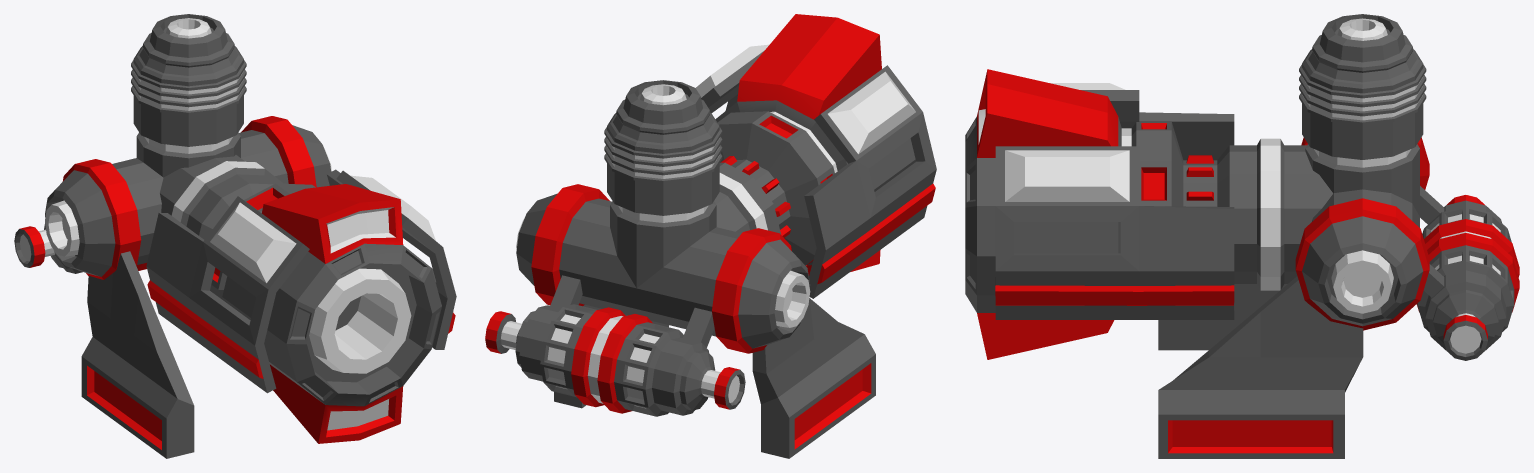
File: tower3_3.fbx
The picture shows the model from 3 angles, left to right: view 1: azimuth 30°, elevation 25°; view 2: azimuth 150°, elevation 25°; view 3: azimuth 270°, elevation 25°; orthographic projection. The views are drawn at different scales.
Parts seen in each view (by area): view 1: polySurface132; view 2: polySurface132; view 3: polySurface132.
Part boxes in pixels (<box>): polySurface132: <box>14,14,456,458</box>; polySurface132: <box>485,14,936,458</box>; polySurface132: <box>965,14,1519,458</box>.
Bounding box in the file's own units: 0.518 × 0.6414 × 0.867.
